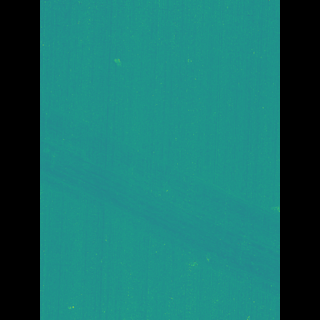Loch: (69, 100, 248, 301)
